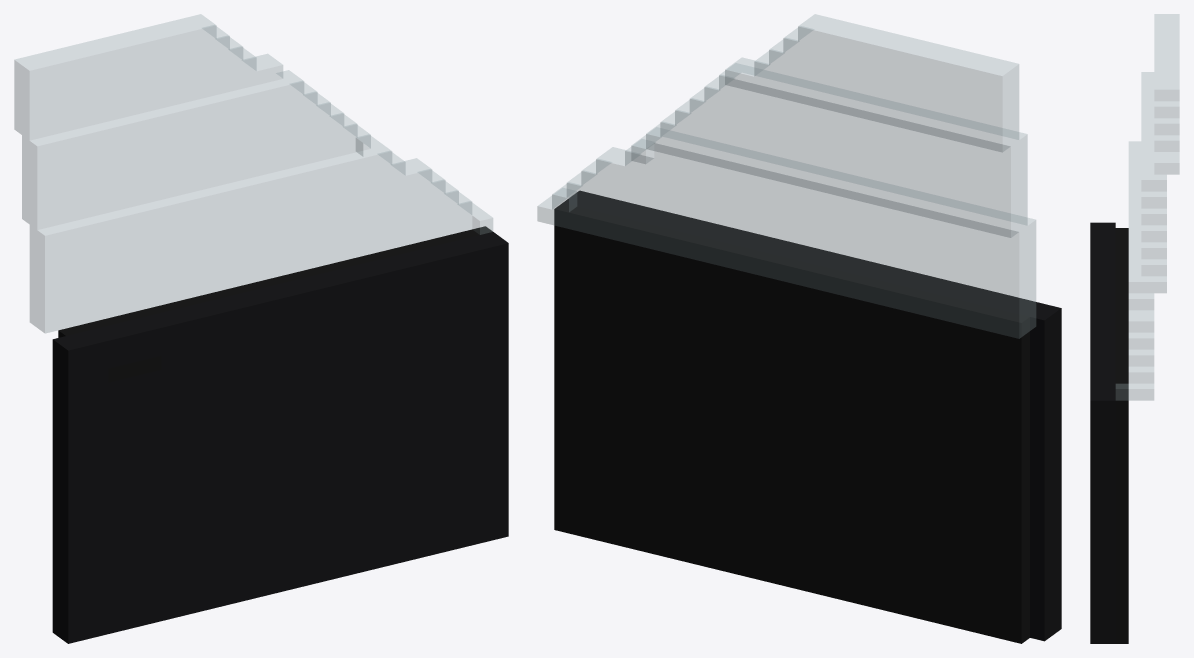
File: hearse_front_door.glb
3 renders of one model, left to right at view 1: azimuth 30°, elevation 25°; view 2: azimuth 150°, elevation 25°; view 3: azimuth 270°, elevation 25°, orthographic. The views are drawn at different scales.
Parts seen in each view (by area): view 1: body:compound; view 2: body:compound; view 3: body:compound.
Part boxes in pixels (x1=…): body:compound: x1=14, y1=14, x2=508, y2=643; body:compound: x1=537, y1=14, x2=1061, y2=643; body:compound: x1=1090, y1=14, x2=1179, y2=643.
Bounding box in the file's own units: 1.03 × 1.22 × 0.2188.
